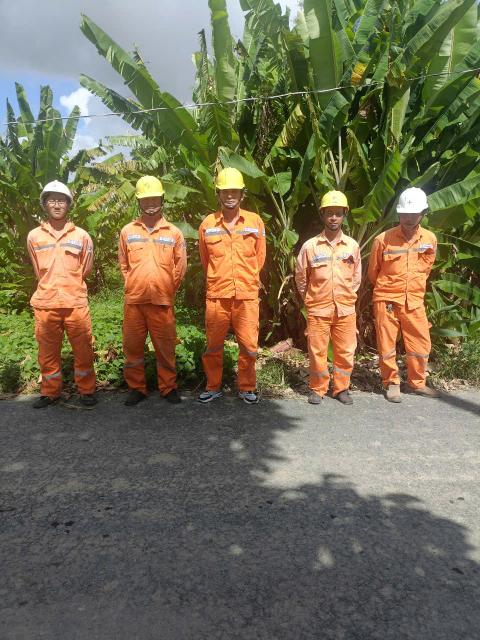helmet: (125, 168, 173, 203), (389, 182, 434, 218), (207, 162, 246, 195), (307, 182, 347, 213), (39, 177, 74, 211)
shoes: (398, 372, 436, 402), (378, 375, 406, 405), (325, 385, 356, 407), (229, 388, 259, 409), (197, 382, 222, 407), (297, 387, 324, 410), (27, 392, 59, 411), (73, 390, 96, 412), (122, 382, 142, 407), (165, 382, 182, 406)
